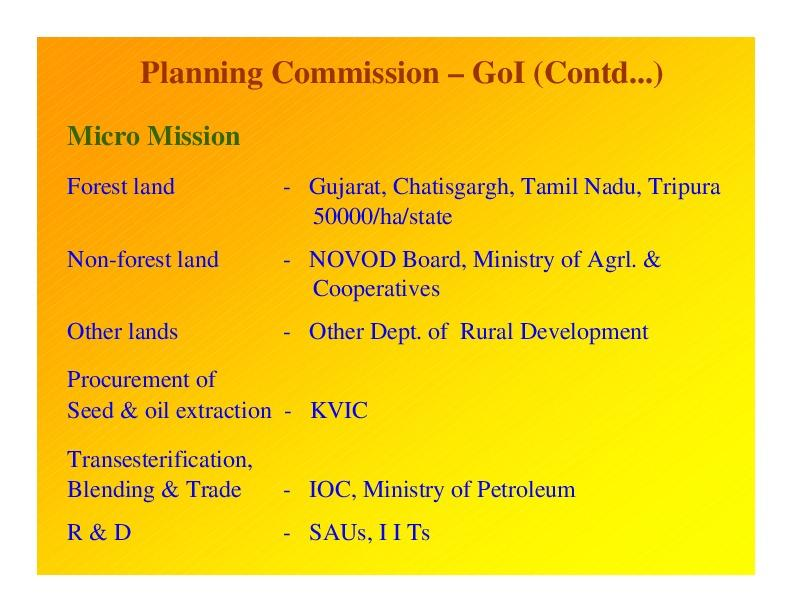paragraph: (42, 155, 741, 580)
title: (125, 51, 673, 101), (61, 116, 250, 167)
